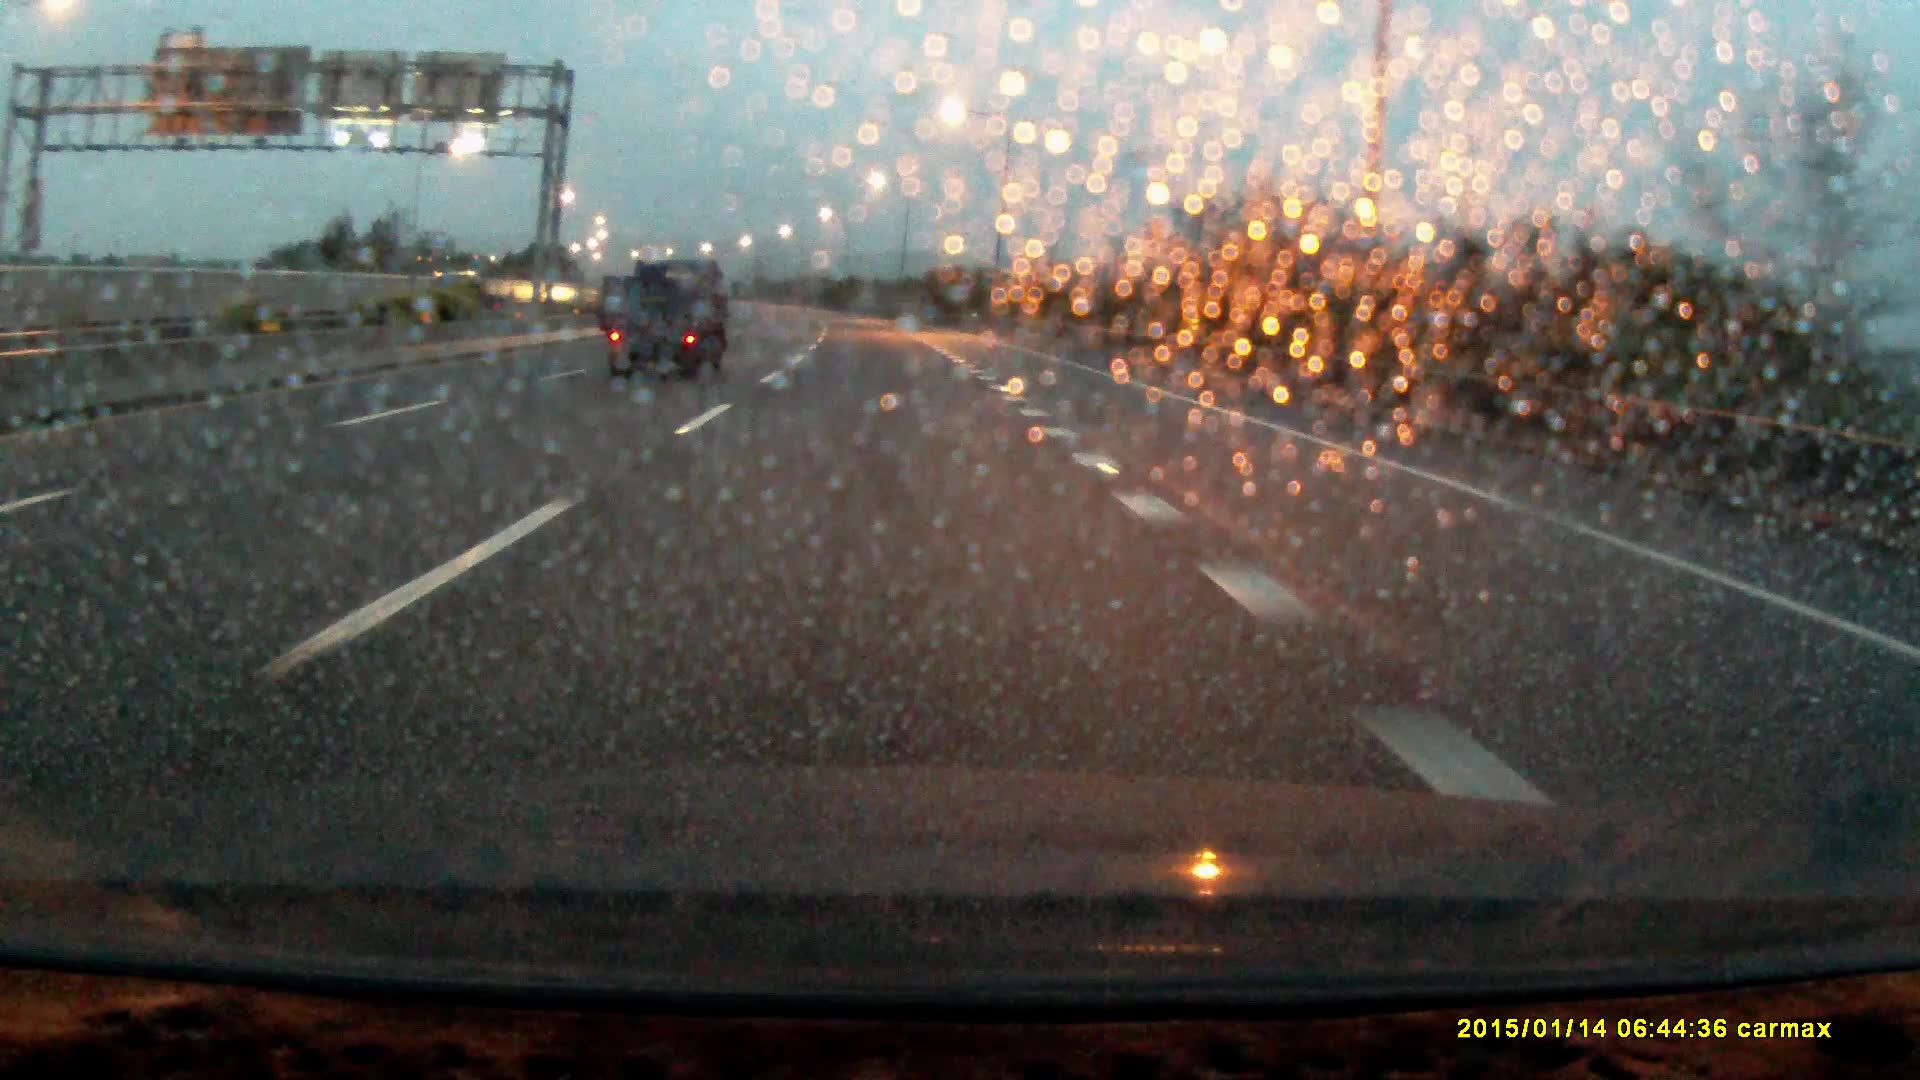vehicle: (605, 257, 733, 378), (433, 266, 530, 313)
